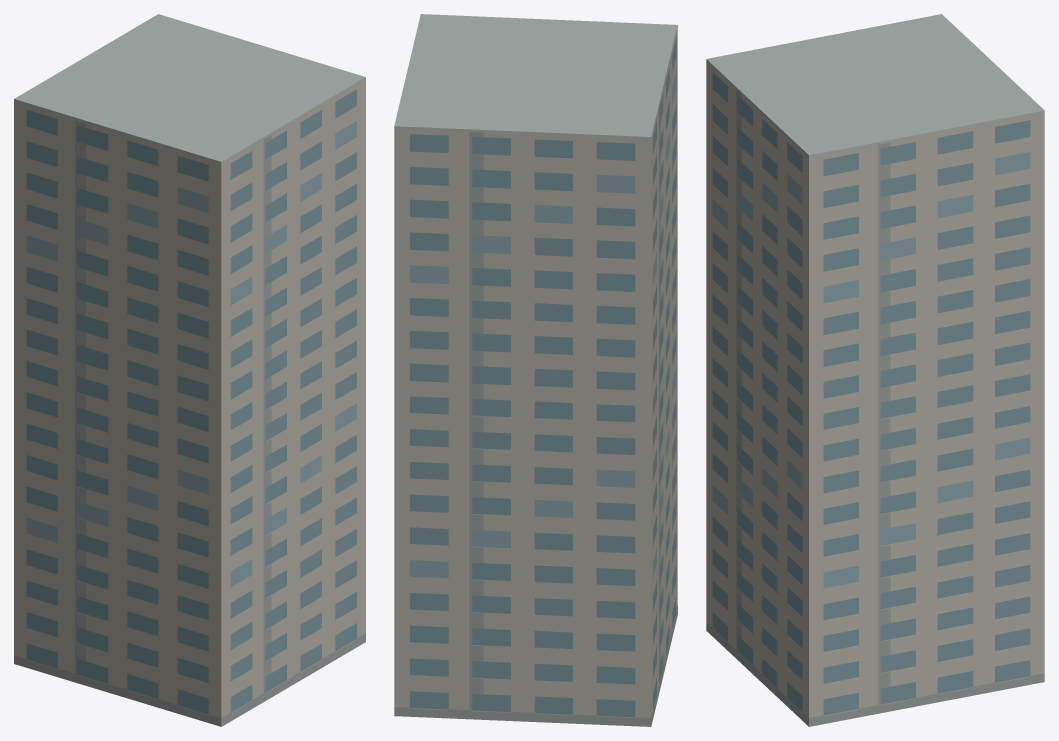
Rendered from residential-fff31861-a71c-407f-9efc-7727d974c232.glb.
3 renders of one model, left to right at view 1: azimuth 30°, elevation 25°; view 2: azimuth 150°, elevation 25°; view 3: azimuth 270°, elevation 25°, orthographic. The views are drawn at different scales.
Parts seen in each view (by area): view 1: residential-fff31861-a71c-407f-9efc-7727d974c232.tmp; view 2: residential-fff31861-a71c-407f-9efc-7727d974c232.tmp; view 3: residential-fff31861-a71c-407f-9efc-7727d974c232.tmp.
Boxes of the visible parts, left/top/right/bottom form: residential-fff31861-a71c-407f-9efc-7727d974c232.tmp: left=14, top=14, right=365, bottom=726; residential-fff31861-a71c-407f-9efc-7727d974c232.tmp: left=394, top=14, right=677, bottom=726; residential-fff31861-a71c-407f-9efc-7727d974c232.tmp: left=706, top=14, right=1044, bottom=726.
Bounding box in the file's own units: 29.17 × 55 × 29.53.
